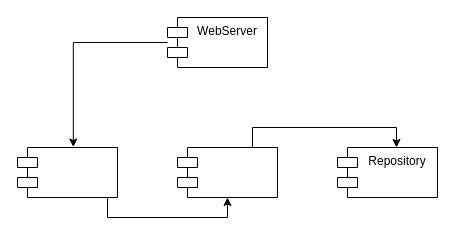
The diagram is 455 pixels wide and 243 high, and some of its shapes have lost their labels. Each missing label, with the box of its shape:
Delivery: (16, 146, 118, 198)
Usecase: (176, 146, 278, 198)
